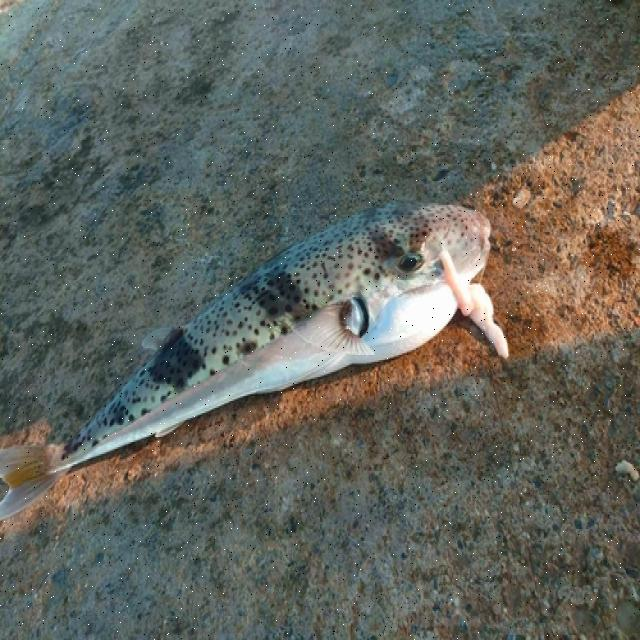Balik: (0, 204, 508, 518)
